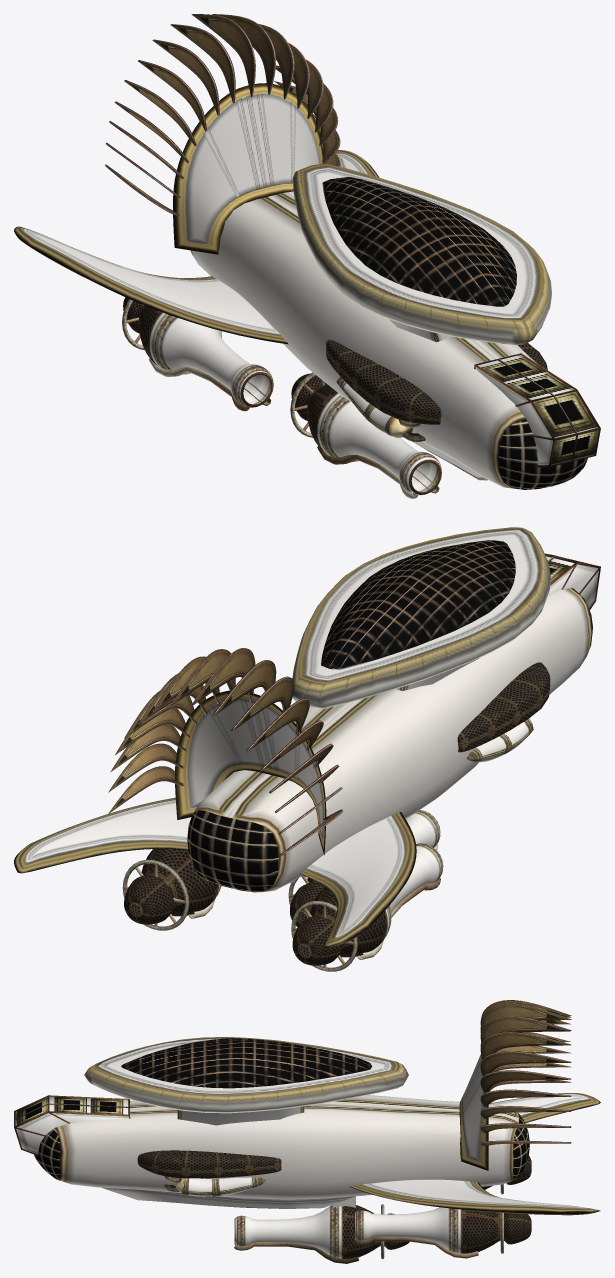
File: airship.glb
3 views of the same model, one above another, from view 1: azimuth 30°, elevation 25°; view 2: azimuth 150°, elevation 25°; view 3: azimuth 270°, elevation 25° (orthographic). The views are drawn at different scales.
Parts seen in each view (by area): view 1: Airship3_17073.Shape; view 2: Airship3_17073.Shape; view 3: Airship3_17073.Shape.
Part boxes in pixels (left/top/right/bottom): Airship3_17073.Shape: left=14, top=14, right=600, bottom=498; Airship3_17073.Shape: left=14, top=527, right=600, bottom=971; Airship3_17073.Shape: left=14, top=1000, right=600, bottom=1263.
Size of the model in its own units: 18.18 by 17.99 by 37.69.
3 materials, 3 textured.
